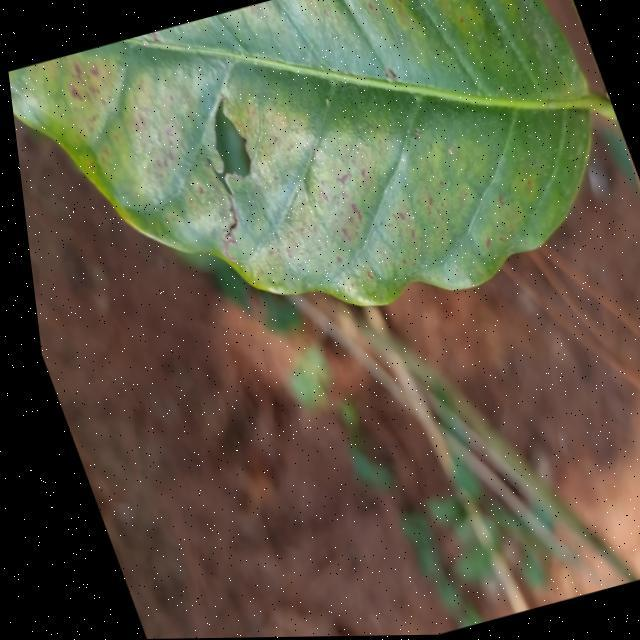leaves: (9, 0, 612, 308)
